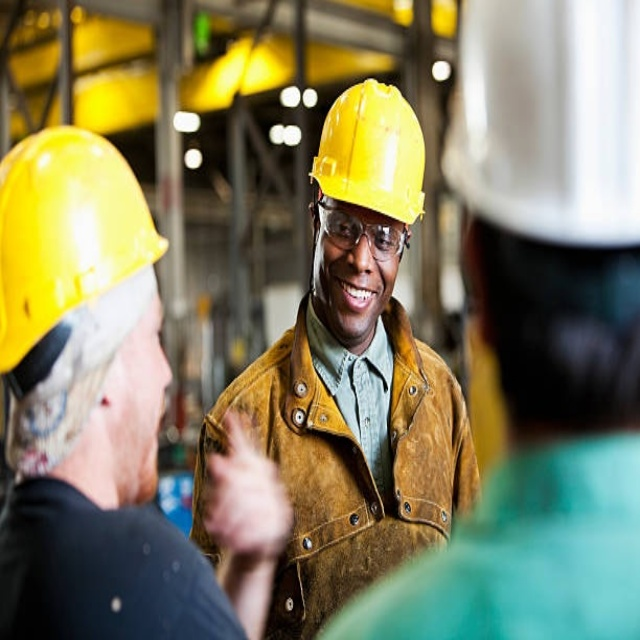Gafas: (317, 198, 407, 262)
Sin_gafas: (113, 295, 172, 380)
Sin_mascara: (113, 383, 173, 488), (332, 271, 379, 325)
